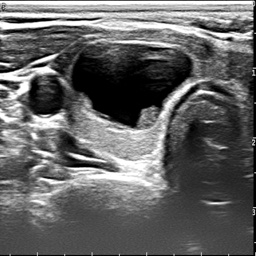mass: (74, 39, 195, 129)
